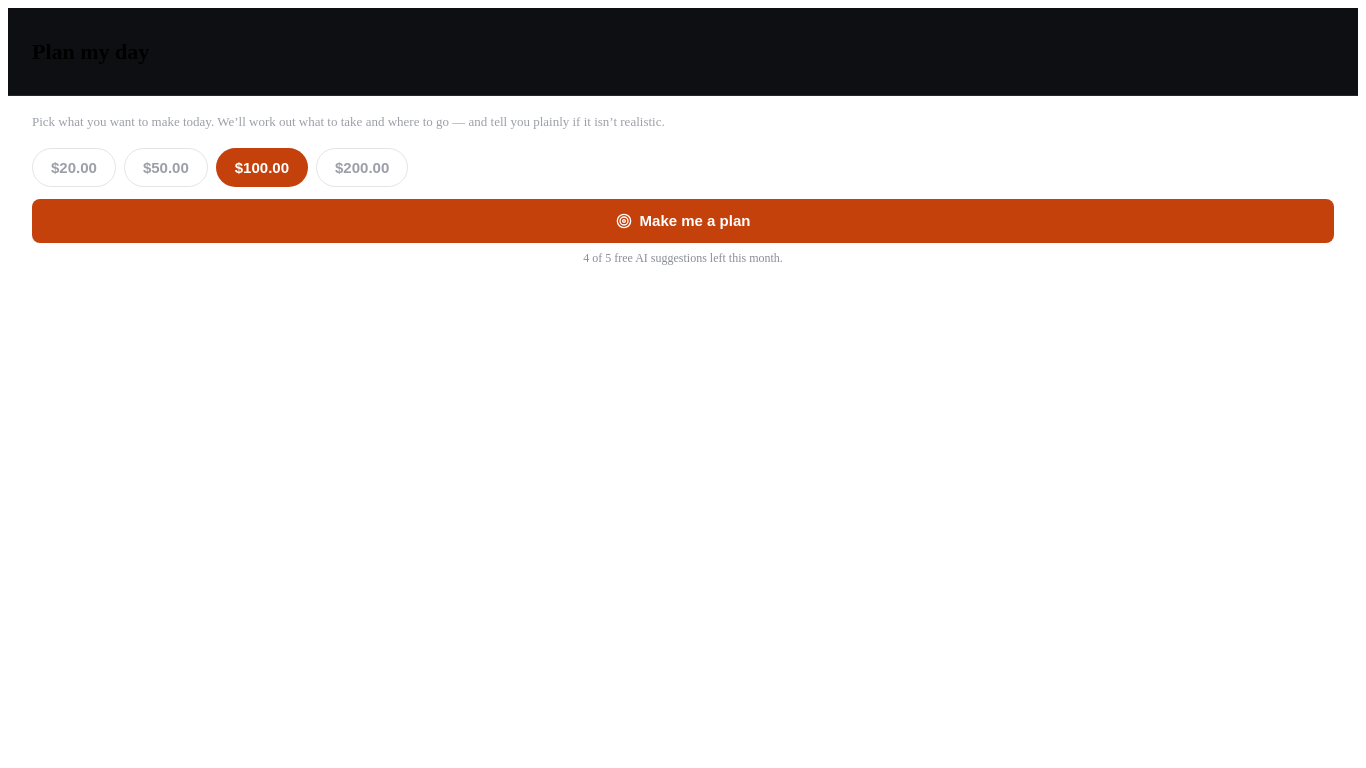
Test case: E-9 Income Coach (demo mode) › shows a shortfall as a shortfall, with what would actually close it
Click the radio button labelled "$200.00" at (362, 168), box [316,148,408,187]
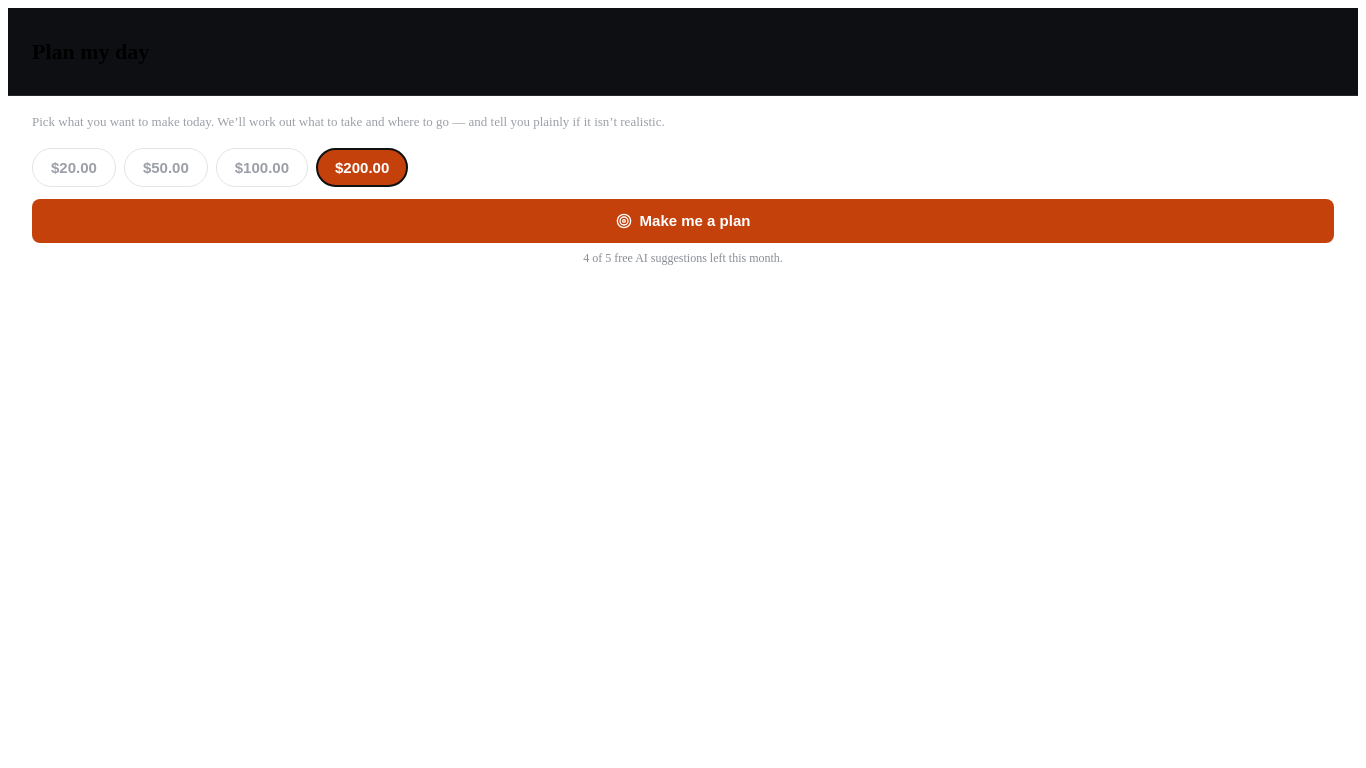
Click the button "Make me a plan" at (683, 221), box [32,199,1334,243]
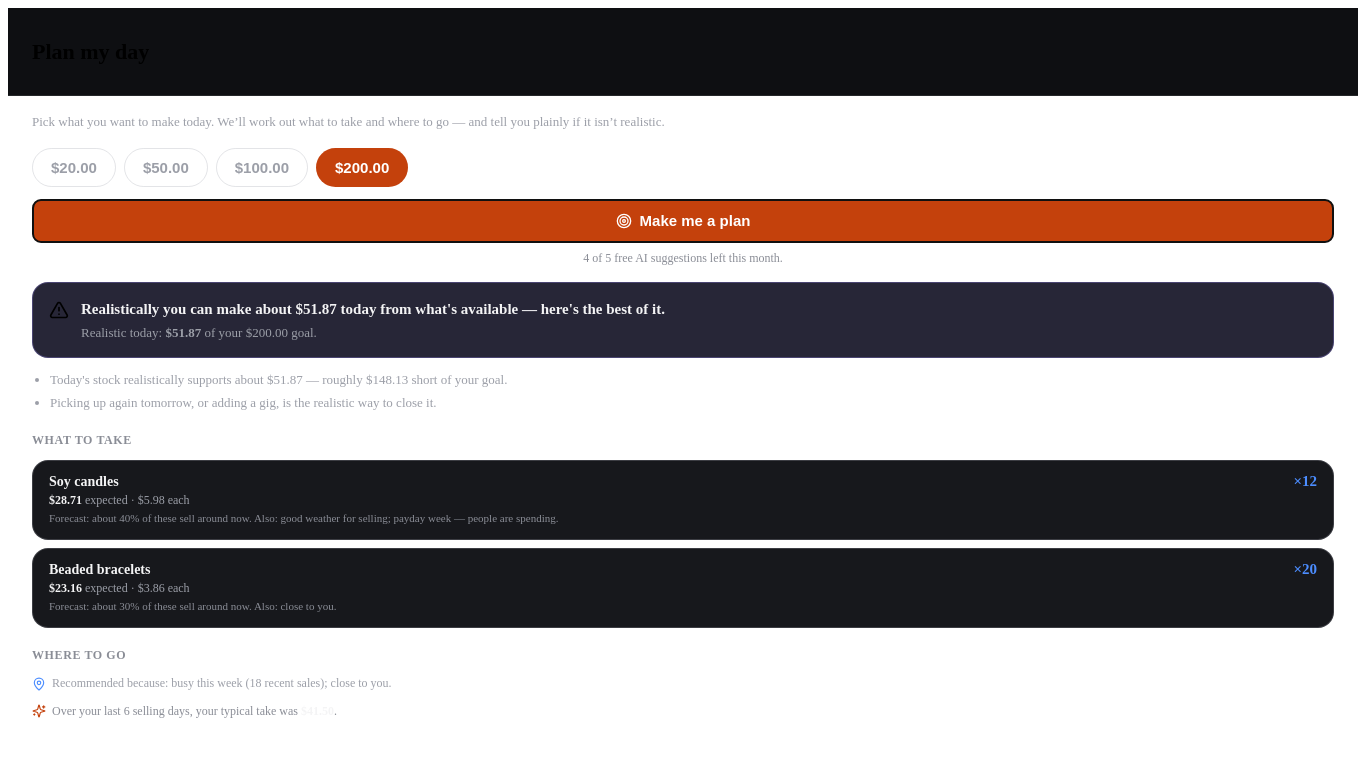
Result: the text "Realistically you can make about" is shown at [81,301,665,317]
Result: the text "Realistic today: $51.87 of your $200.00 goal." is shown at [81,325,317,340]
Result: the list item "short of your goal" is shown at [50,372,508,387]
